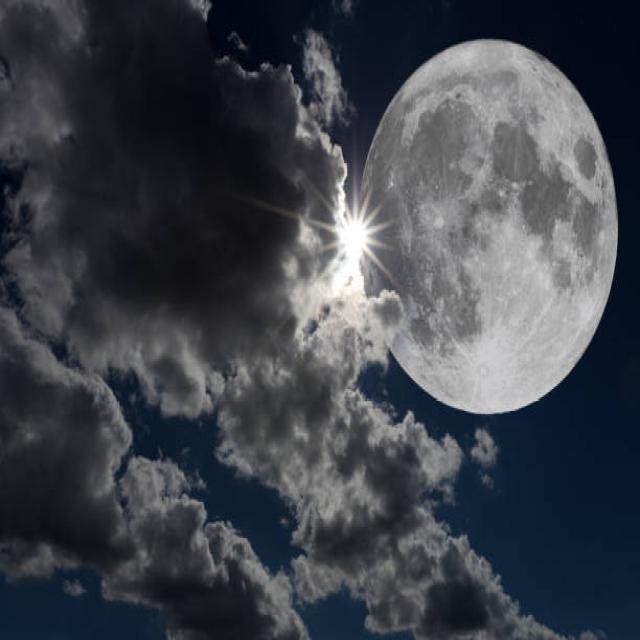moon: (364, 36, 616, 413)
